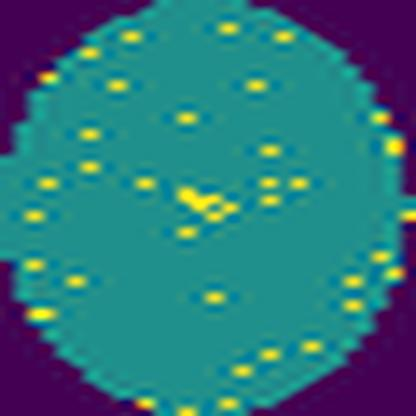Center: (168, 174, 246, 222)
